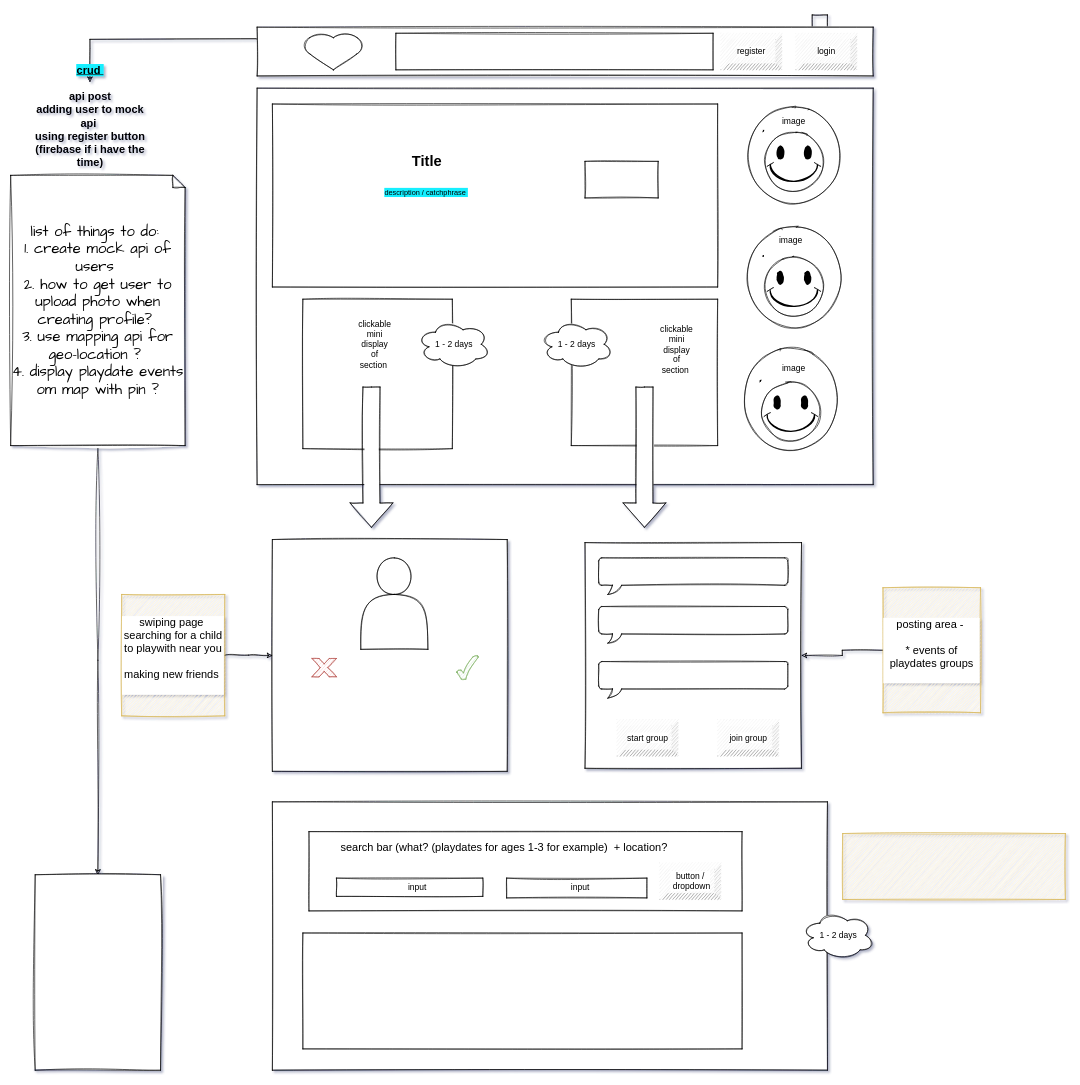
The diagram is 1080 pixels wide and 1085 high, and some of its shapes have lost their labels. Each missing label, with the centre of its shape:
additional pages like about /: (x=554, y=51)
display section of filtered search: (x=522, y=990)
logo: (x=333, y=51)
Text: (x=621, y=179)
try not to kill self during process!: (x=98, y=972)
whats happening today? this week? drop down option to pick time: (x=953, y=866)
